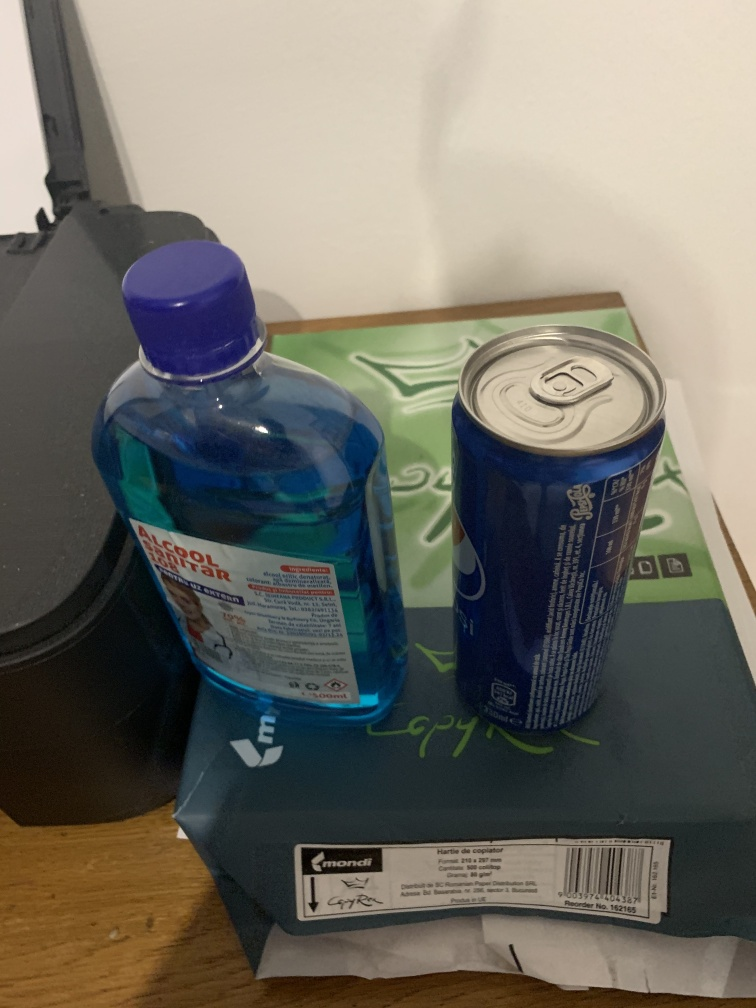pepsi: (443, 324, 671, 731)
